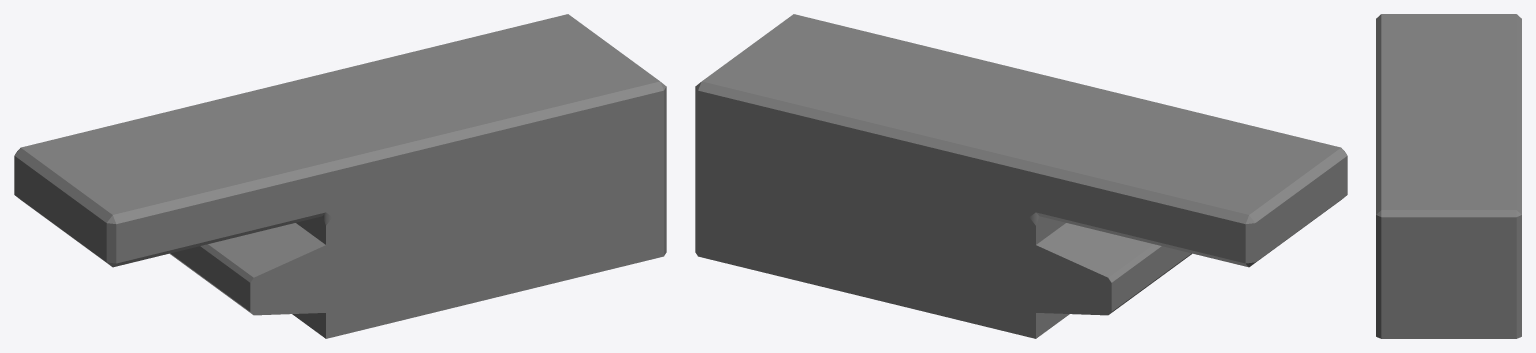
File: lackA01.fbx
3 views of the same model, side by side, from view 1: azimuth 30°, elevation 25°; view 2: azimuth 150°, elevation 25°; view 3: azimuth 270°, elevation 25° (orthographic). The views are drawn at different scales.
Parts seen in each view (by area): view 1: polySurface4; view 2: polySurface4; view 3: polySurface4.
Boxes of the visible parts, x1,y1,x2,y2 form: polySurface4: [14, 14, 666, 338]; polySurface4: [695, 14, 1347, 338]; polySurface4: [1376, 14, 1521, 338].
Size of the model in its own units: 1.63 by 0.4789 by 0.5.
1 material, 1 textured.
